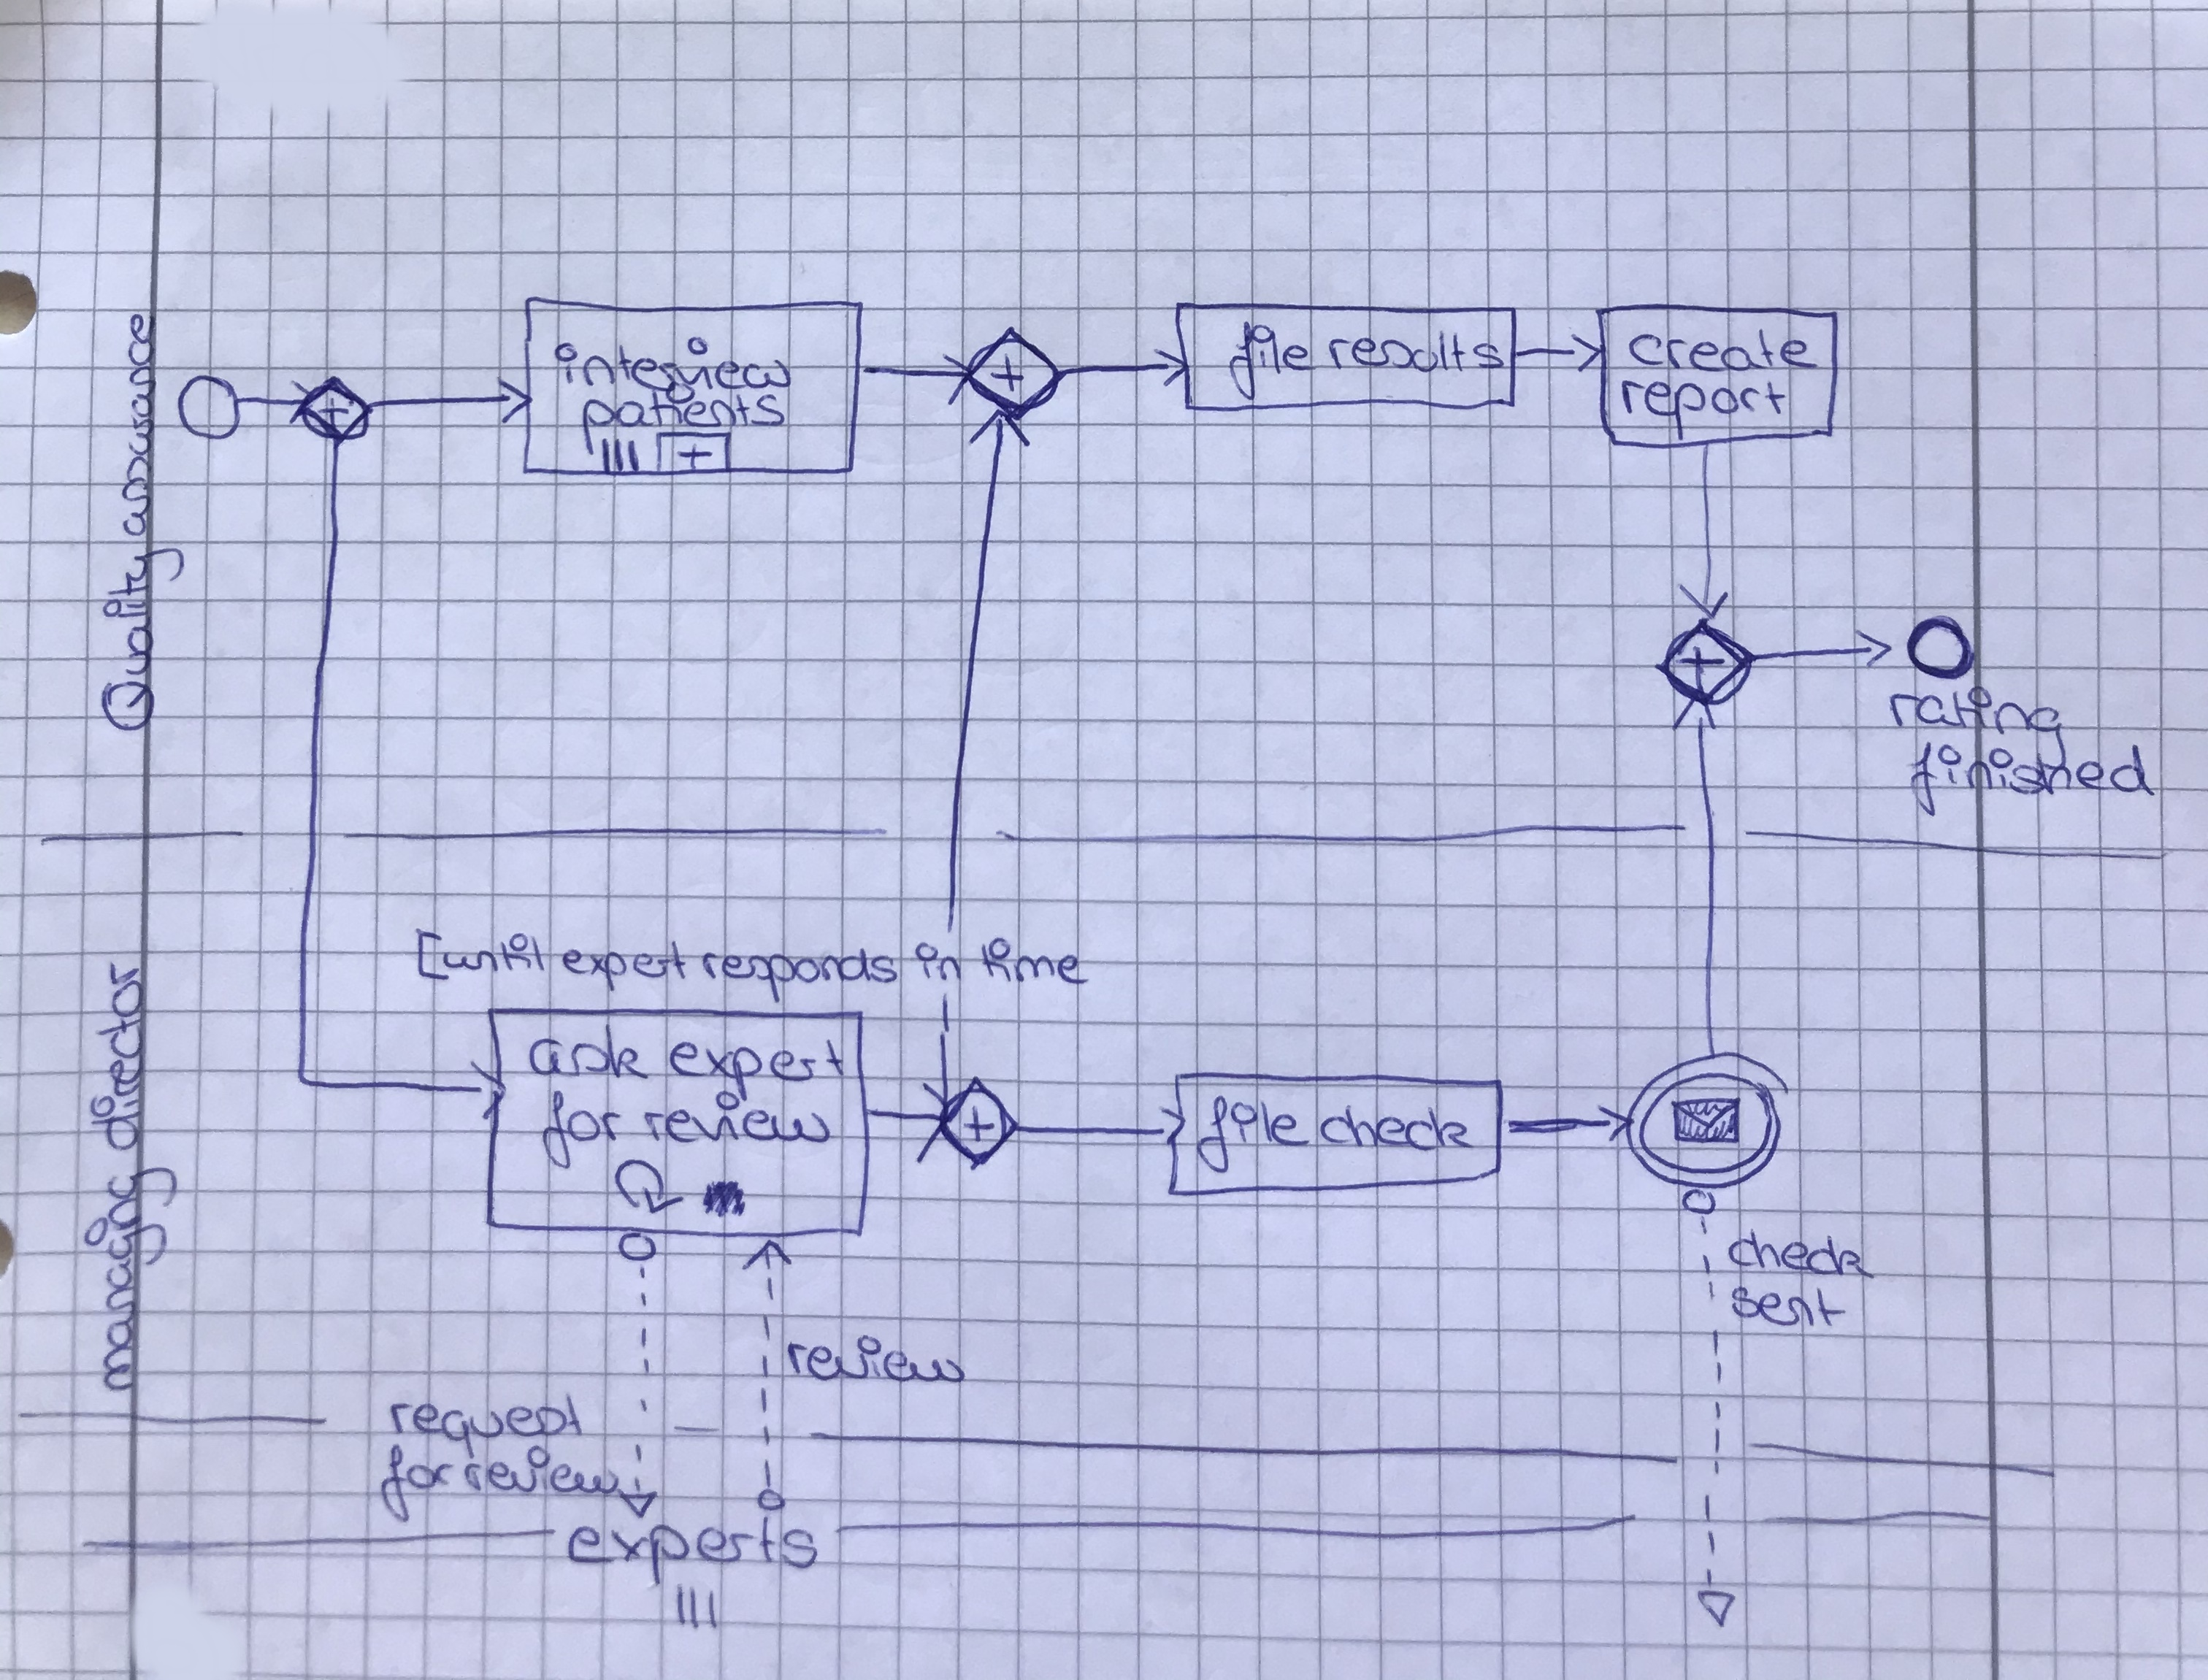Quality: (95, 541, 190, 737)
ask: (521, 1016, 656, 1086)
assurance: (113, 307, 166, 545)
check: (1720, 1222, 1881, 1285), (1313, 1097, 1482, 1156)
create: (1621, 321, 1828, 378)
director: (83, 954, 152, 1158)
expert: (663, 1030, 854, 1108), (554, 933, 696, 1000)
experts: (560, 1508, 827, 1595)
file: (1189, 1088, 1317, 1179), (1222, 312, 1325, 407)
finished: (1898, 734, 2163, 824)
for: (534, 1084, 628, 1176), (372, 1438, 460, 1529)
in: (908, 936, 967, 986)
interview: (546, 328, 800, 400)
managing: (77, 1158, 185, 1398)
patients: (572, 375, 794, 464)
rating: (1882, 678, 2074, 777)
report: (1613, 373, 1795, 448)
request: (383, 1386, 589, 1467)
responds: (693, 940, 905, 1010)
results: (1322, 323, 1509, 379)
review: (636, 1083, 840, 1151), (778, 1328, 973, 1392), (458, 1439, 626, 1504)
sent: (1723, 1278, 1853, 1334)
time: (974, 931, 1097, 991)
until: (437, 927, 553, 980)
